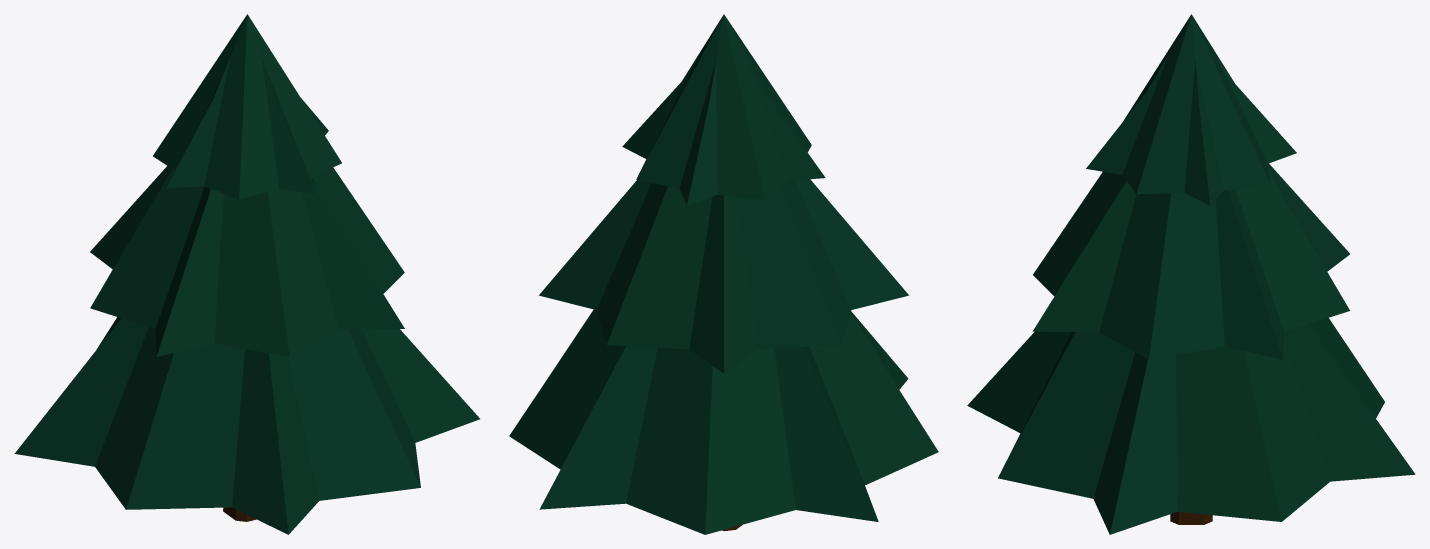
File: tree2.fbx
3 views of the same model, side by side, from view 1: azimuth 30°, elevation 25°; view 2: azimuth 150°, elevation 25°; view 3: azimuth 270°, elevation 25° (orthographic).
Parts seen in each view (by area): view 1: Cone.002, Cone.001, Cone; view 2: Cone.002, Cone.001, Cone; view 3: Cone.002, Cone.001, Cone.
Part boxes in pixels (<box>): Cone.002: <box>14,317,479,534</box>; Cone.001: <box>90,166,404,356</box>; Cone: <box>153,14,341,199</box>; Cone.002: <box>509,309,938,534</box>; Cone.001: <box>539,179,908,373</box>; Cone: <box>622,14,825,205</box>; Cone.002: <box>967,318,1415,534</box>; Cone.001: <box>1032,163,1349,359</box>; Cone: <box>1086,14,1296,205</box>.
Size of the model in its own units: 4083 by 5041 by 4083.
